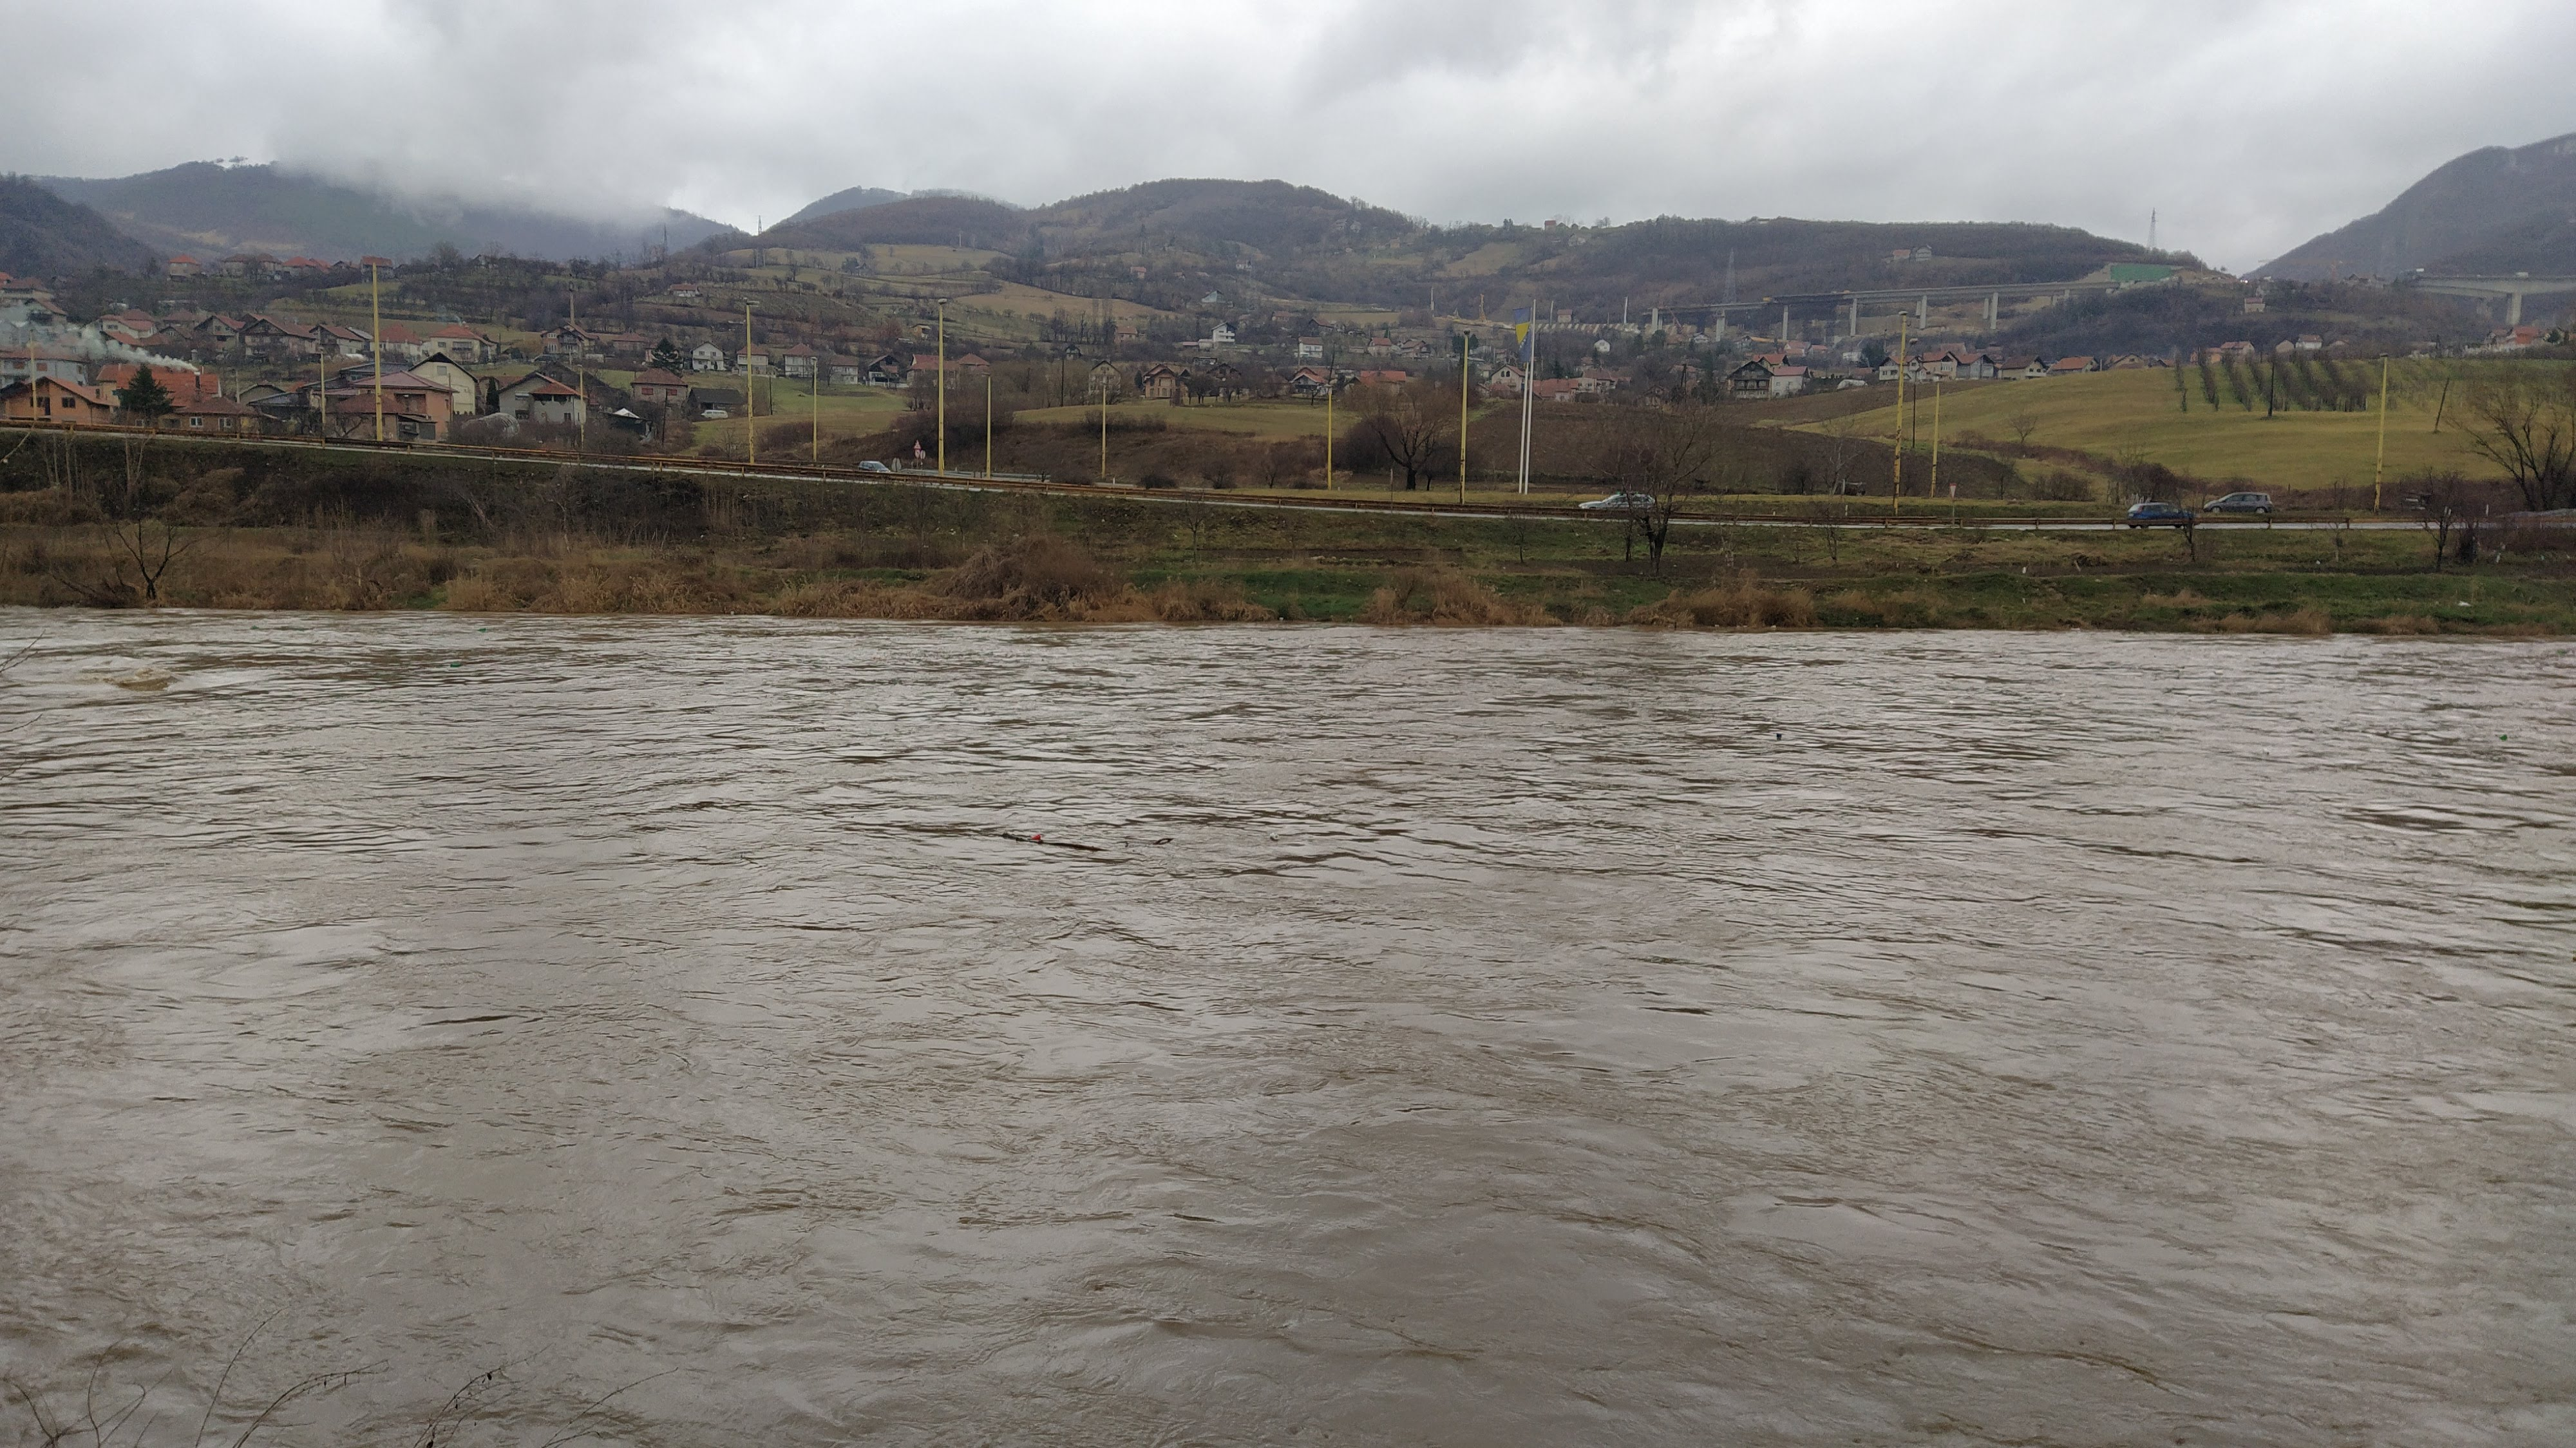Plastic Bottle: (1270, 832, 1279, 839), (1030, 834, 1040, 839), (251, 625, 258, 630), (2500, 733, 2507, 738), (451, 662, 460, 666), (478, 627, 487, 630), (1776, 733, 1780, 736)
